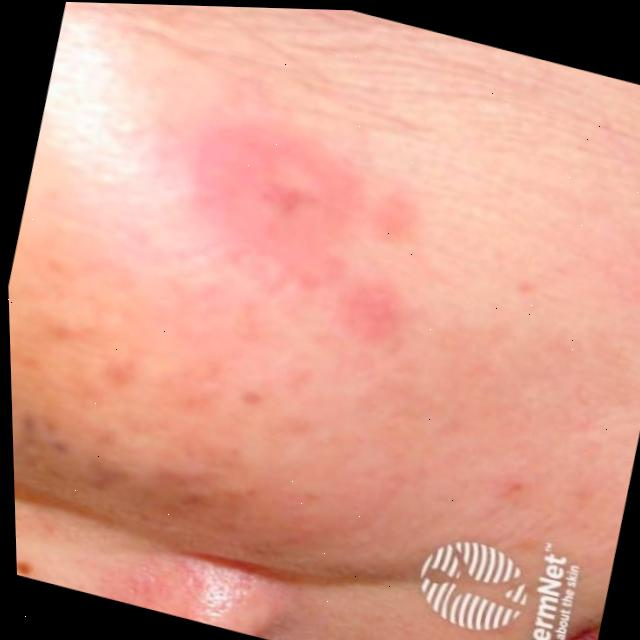lupus-detected: (114, 40, 495, 503), (64, 471, 324, 640)
